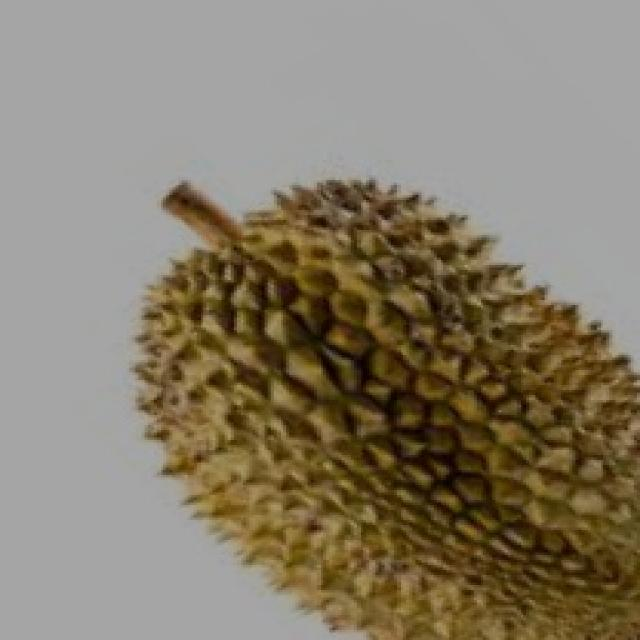fruit: (80, 212, 440, 638), (283, 250, 637, 640)
